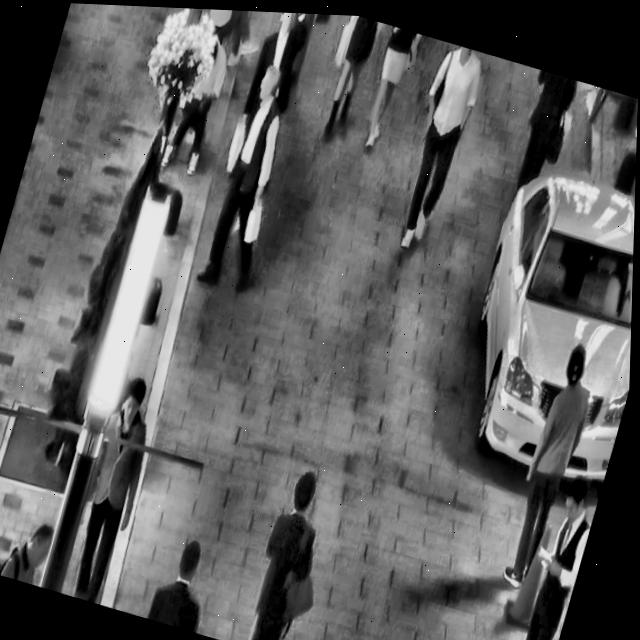light_vehicle: (434, 132, 637, 494)
